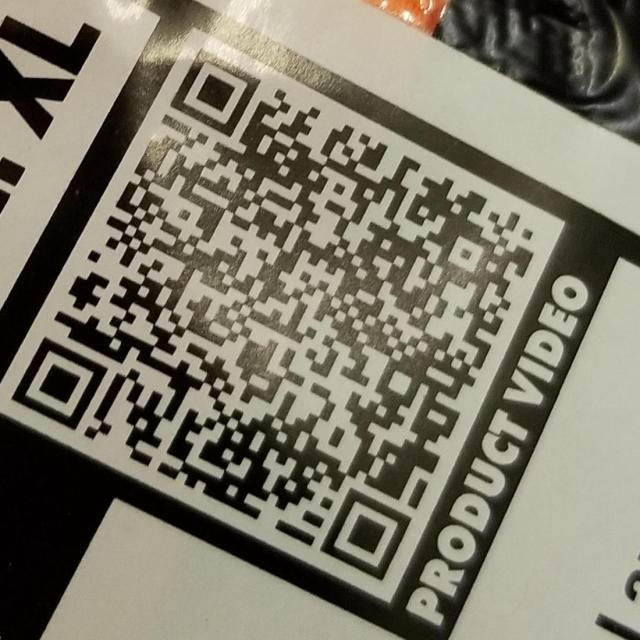QR_CODE: (11, 48, 536, 583)
